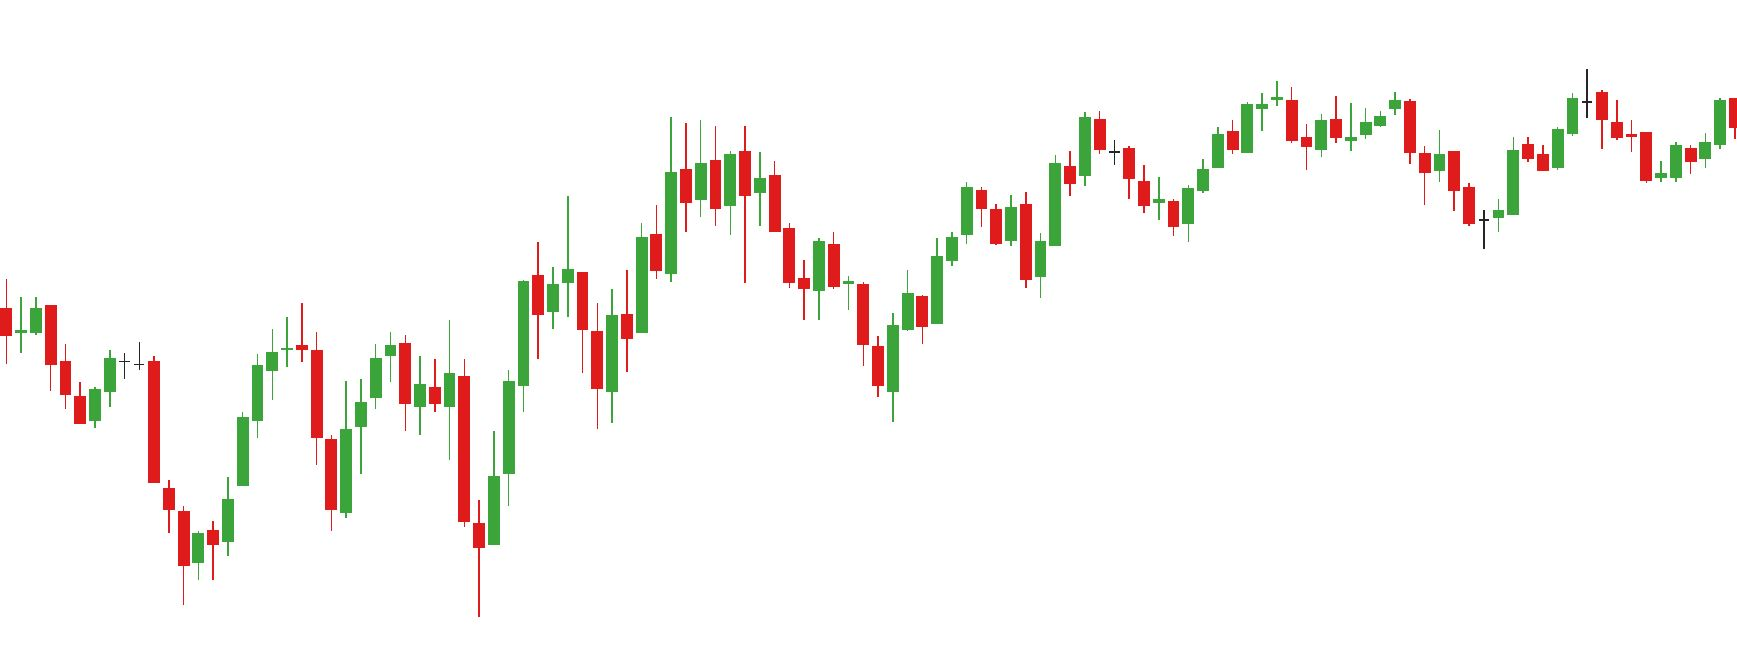buy: (325, 385, 501, 616), (514, 303, 619, 428)
